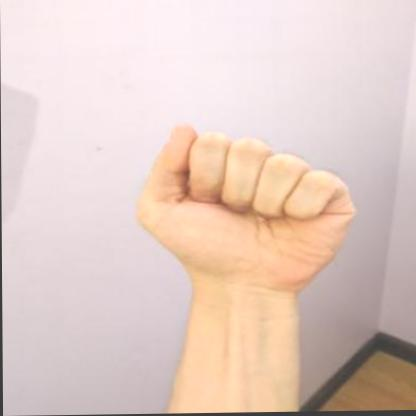A: (129, 116, 364, 297)
